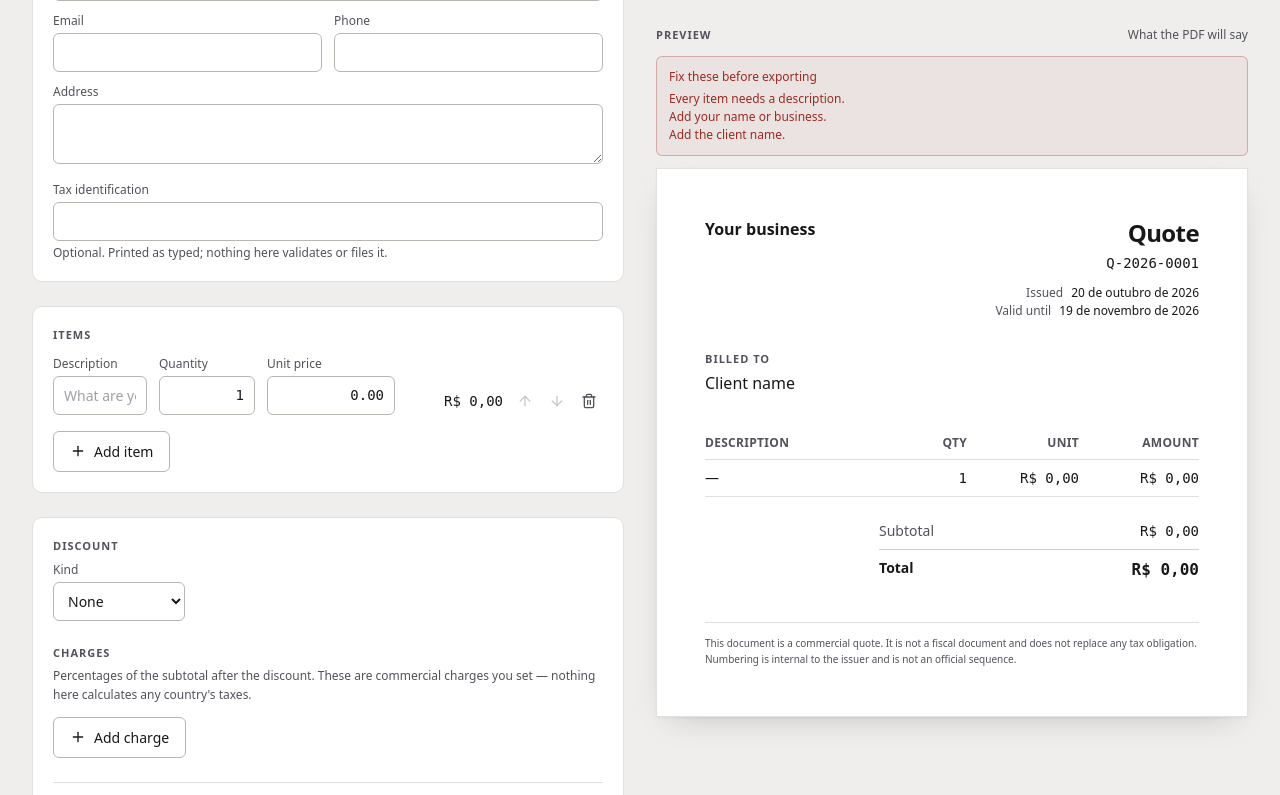
Scenario: the editor › shows the total updating as the price changes
(page scrolled)
Replace the text in the field labelled "Unit price" with "250": (331, 395) [267,376,395,414]
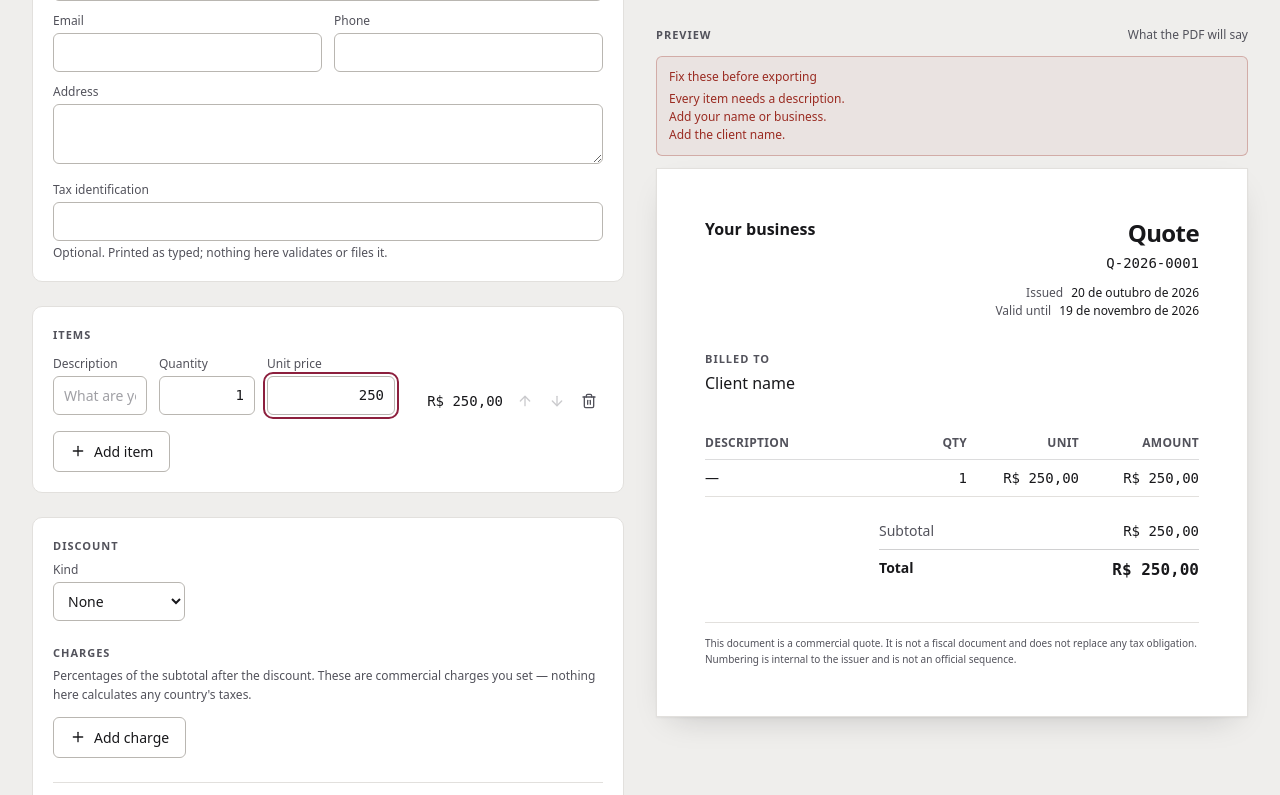
Now the text "R$ 250,00" below "Quantity" is shown, box [427,392,503,408]
